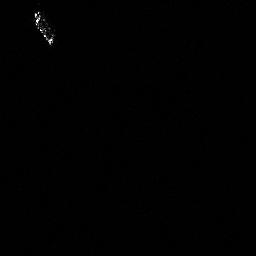ship: (33, 12, 54, 45)
